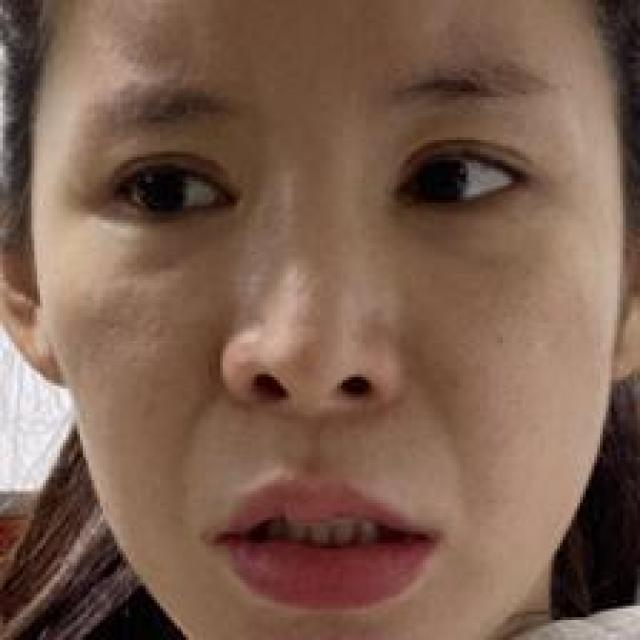fear: (50, 55, 596, 600)
